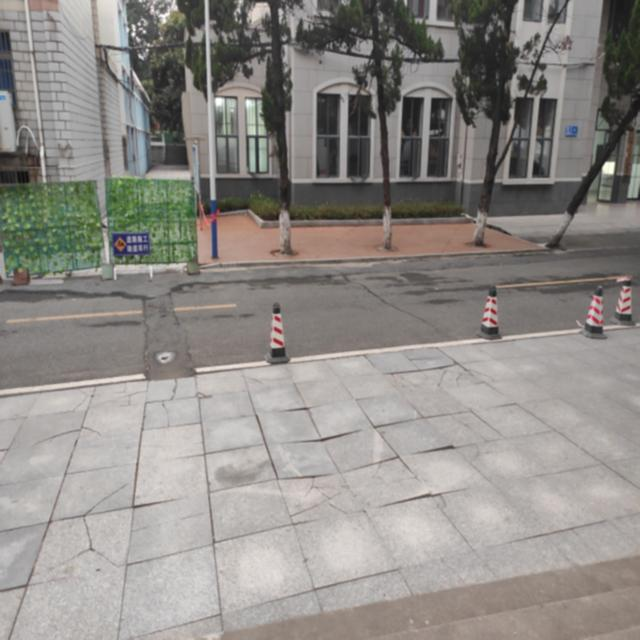pole: (200, 3, 220, 258)
reflective_cone: (264, 301, 292, 364), (476, 284, 503, 340), (608, 274, 637, 326), (580, 286, 608, 338)
